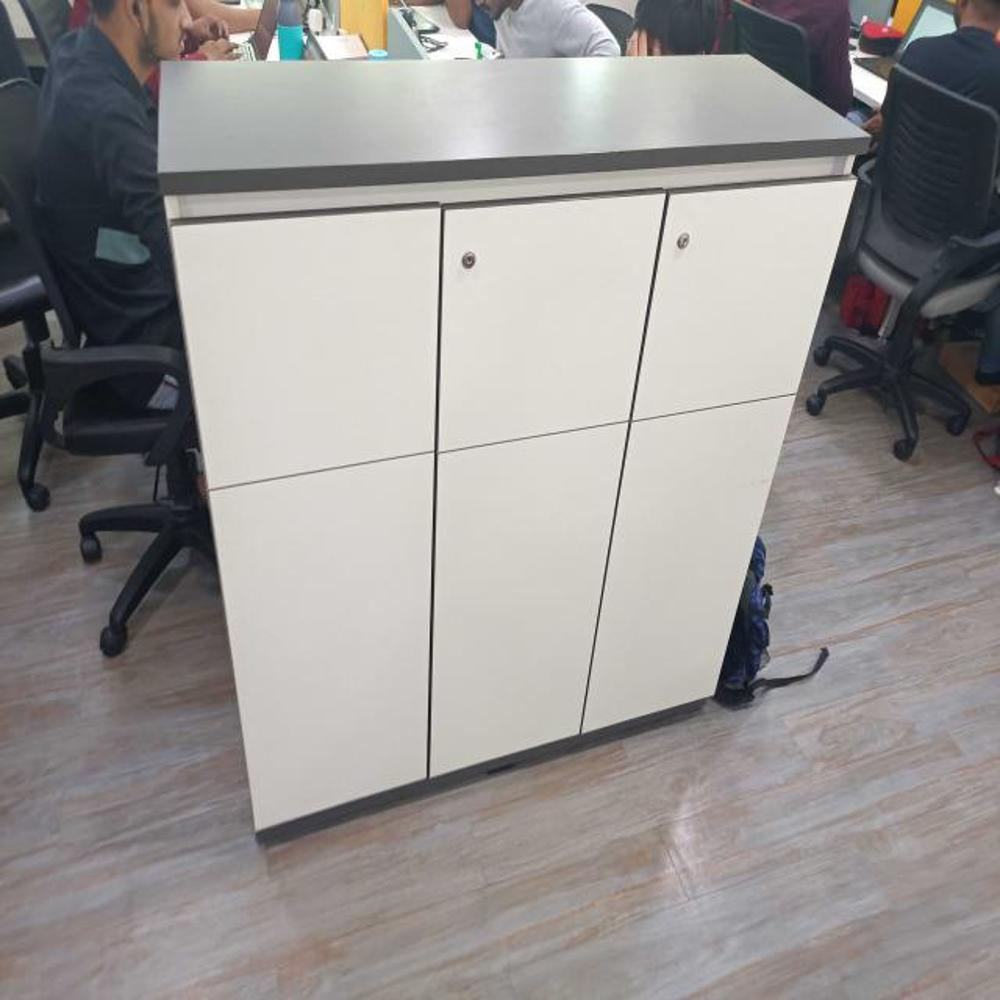cabinet: (154, 48, 880, 857)
